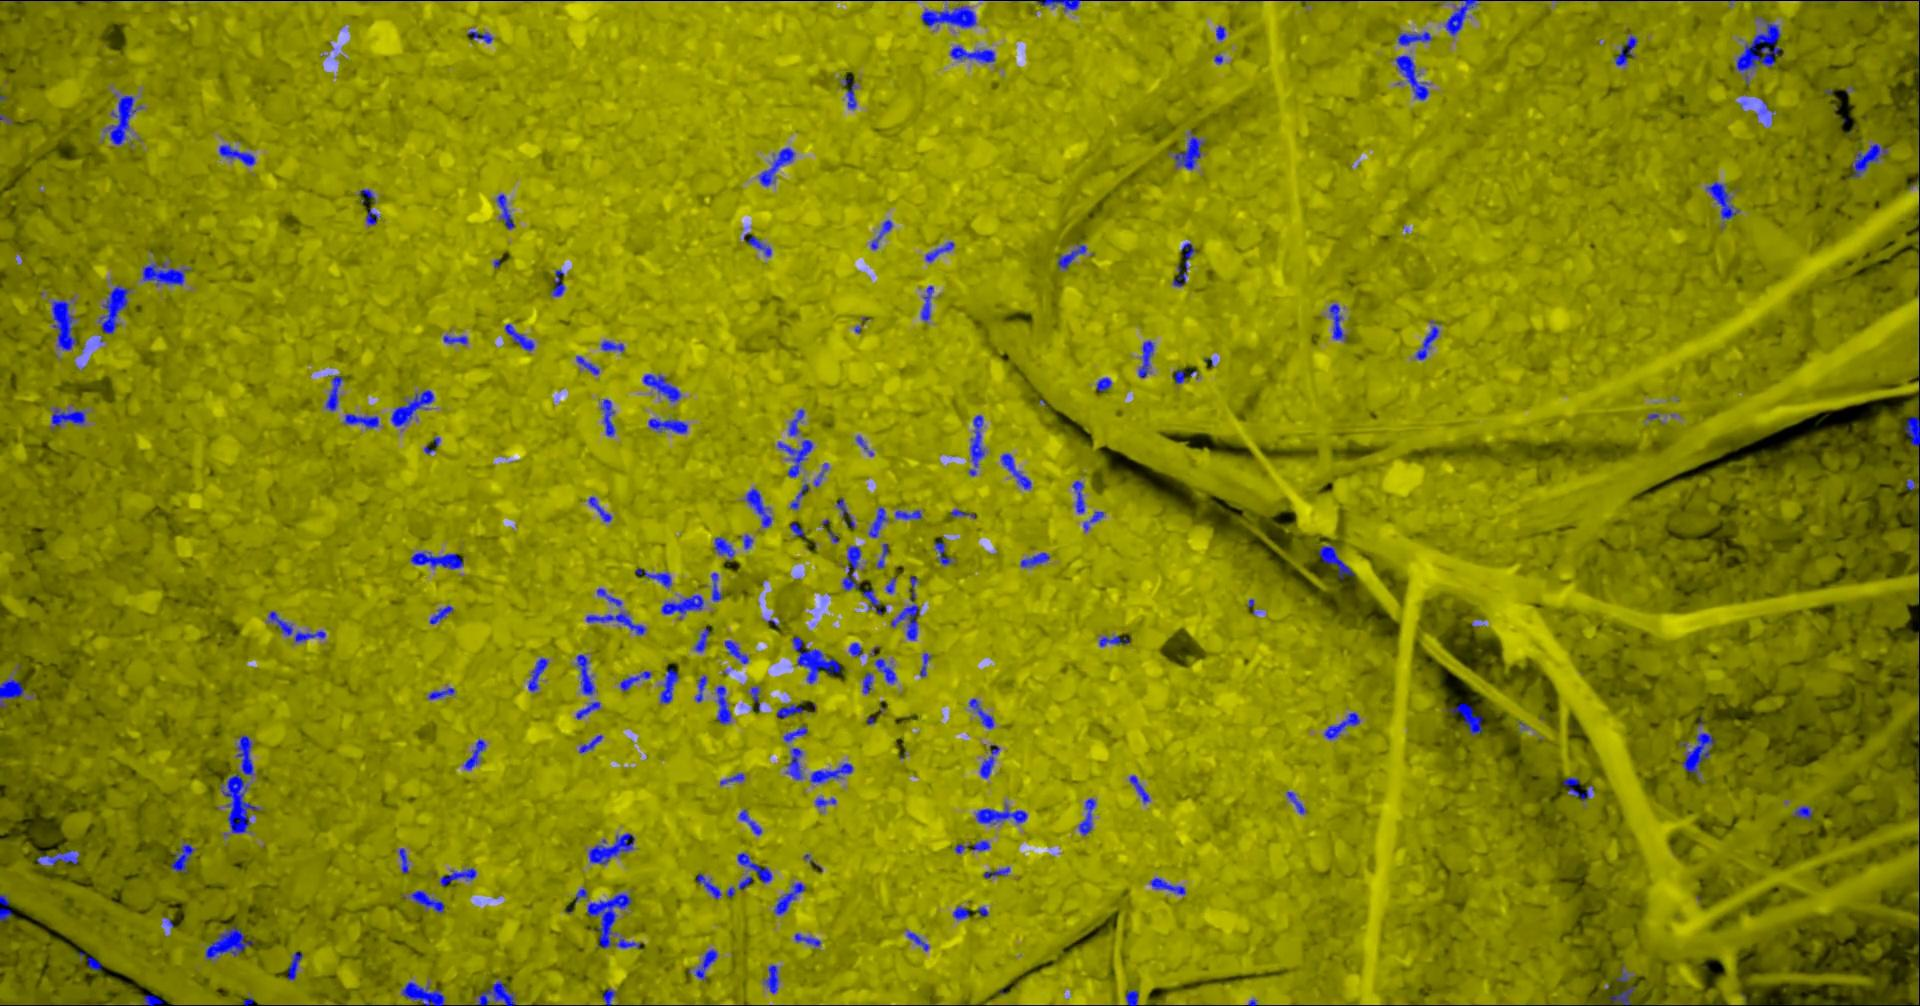ant: (585, 892, 640, 948), (791, 635, 841, 683), (890, 575, 919, 640), (267, 610, 325, 641), (204, 925, 253, 959), (390, 389, 433, 426), (1394, 55, 1429, 100), (1681, 732, 1716, 776), (99, 285, 130, 334), (104, 95, 135, 144), (588, 833, 634, 864), (585, 611, 645, 634), (758, 147, 794, 185), (51, 298, 76, 351), (777, 439, 811, 478), (1705, 180, 1738, 218), (1444, 702, 1482, 735), (1444, 0, 1478, 36), (1318, 545, 1354, 579), (1850, 144, 1887, 177), (919, 5, 975, 27), (1173, 130, 1204, 169), (141, 260, 190, 285), (975, 803, 1027, 824), (1001, 452, 1031, 489), (643, 373, 681, 401), (773, 882, 805, 915), (660, 594, 703, 619), (401, 981, 444, 1005), (737, 852, 772, 882), (474, 981, 516, 1005), (968, 414, 984, 475), (745, 488, 771, 527), (1172, 243, 1195, 286), (410, 551, 463, 569), (1323, 713, 1359, 739), (1415, 320, 1437, 359), (809, 762, 852, 782), (50, 406, 85, 431), (504, 323, 535, 351), (841, 545, 860, 589), (169, 841, 196, 873), (949, 44, 996, 62), (410, 890, 444, 913), (1057, 243, 1086, 269), (1903, 417, 1919, 467), (218, 144, 254, 165), (695, 948, 717, 981), (968, 699, 993, 728), (527, 657, 549, 691), (635, 567, 670, 587), (36, 848, 79, 865), (1563, 776, 1592, 800), (439, 868, 476, 887), (577, 654, 594, 694), (1614, 34, 1637, 65), (979, 744, 999, 779), (696, 873, 721, 899), (743, 232, 771, 257), (618, 671, 651, 691), (0, 678, 23, 708), (870, 218, 891, 249), (463, 738, 485, 768), (1328, 304, 1346, 340), (325, 375, 343, 412), (659, 668, 678, 702), (737, 808, 761, 835), (497, 193, 514, 229), (715, 685, 731, 723), (867, 507, 888, 537), (587, 495, 611, 521), (861, 589, 886, 614), (1150, 876, 1185, 894), (1137, 340, 1153, 377), (1078, 798, 1095, 835), (648, 418, 687, 433), (836, 497, 855, 527), (874, 658, 897, 683), (924, 241, 952, 262), (785, 747, 803, 779), (724, 640, 748, 663), (712, 536, 734, 561), (343, 413, 378, 428), (1129, 775, 1149, 801), (1609, 984, 1636, 1005), (725, 876, 750, 897), (919, 285, 933, 321), (601, 399, 615, 436), (790, 483, 809, 509), (1397, 30, 1432, 44), (1036, 0, 1079, 11), (77, 950, 102, 970), (575, 354, 599, 373), (596, 588, 621, 606), (287, 951, 302, 981), (763, 964, 778, 993), (842, 77, 856, 109), (1070, 480, 1084, 512), (776, 701, 803, 718), (905, 931, 928, 950), (429, 605, 453, 622), (575, 701, 599, 719), (578, 734, 602, 752), (1018, 553, 1049, 567), (782, 725, 808, 742), (1082, 511, 1103, 530), (1286, 791, 1305, 813), (789, 408, 804, 434), (935, 541, 951, 565), (855, 434, 872, 456), (550, 269, 564, 296), (794, 932, 820, 946), (710, 572, 723, 601), (813, 462, 828, 486), (1098, 635, 1129, 647), (695, 674, 707, 701), (695, 627, 709, 652), (1792, 805, 1813, 821), (427, 687, 455, 699), (0, 893, 11, 921), (467, 30, 491, 43), (983, 866, 1010, 878), (876, 542, 888, 568), (599, 340, 623, 352), (919, 652, 931, 676), (719, 772, 743, 784), (894, 509, 921, 520), (397, 847, 408, 873), (789, 522, 804, 537), (862, 671, 872, 694), (952, 904, 968, 920), (142, 993, 163, 1005), (1095, 377, 1111, 391), (602, 988, 616, 1005), (950, 509, 975, 518), (884, 575, 897, 593), (814, 796, 836, 807), (1905, 475, 1919, 490), (364, 207, 377, 224), (971, 840, 989, 851), (361, 189, 375, 203), (442, 335, 467, 343), (739, 533, 752, 549), (574, 888, 587, 903), (1125, 989, 1138, 1005), (848, 641, 861, 655), (749, 686, 759, 701), (1215, 25, 1225, 39), (1175, 370, 1183, 384)
